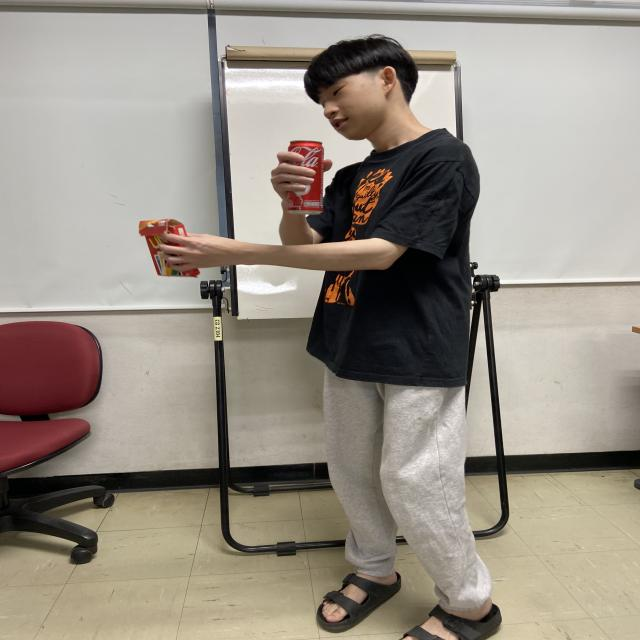can: (284, 140, 325, 215)
